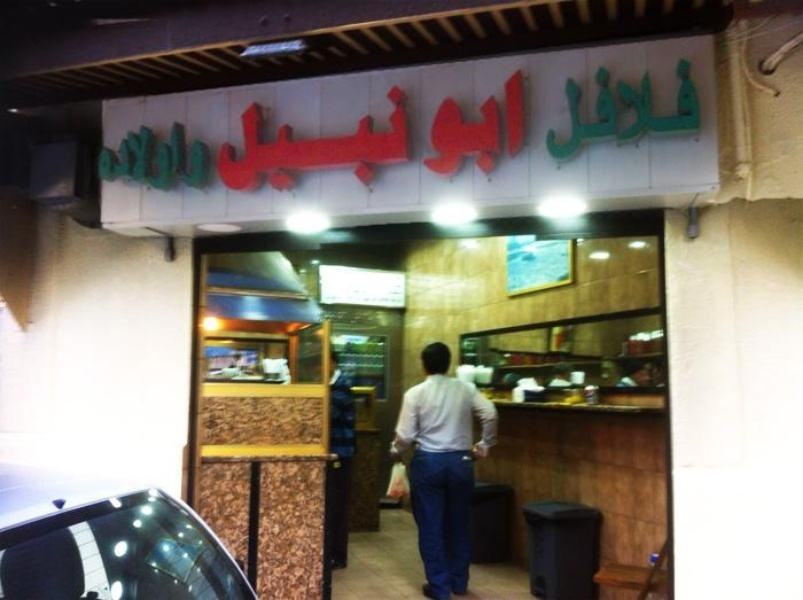text: (449, 60, 464, 194), (465, 60, 480, 194), (481, 60, 496, 194), (497, 60, 512, 194), (513, 60, 528, 194), (225, 82, 240, 197), (241, 82, 256, 197), (257, 82, 272, 197), (273, 82, 288, 197), (289, 82, 304, 197), (305, 82, 320, 197), (321, 82, 336, 197), (337, 82, 352, 197), (353, 82, 368, 197), (369, 82, 384, 197), (385, 82, 400, 197), (401, 82, 416, 197), (545, 53, 560, 165), (561, 53, 576, 165), (577, 53, 592, 165), (593, 53, 608, 165), (609, 53, 624, 165), (625, 53, 640, 165), (641, 53, 656, 165), (657, 53, 672, 165), (673, 53, 688, 165), (689, 53, 704, 165), (436, 60, 448, 194), (213, 82, 224, 197), (113, 119, 128, 198), (129, 119, 144, 198), (145, 119, 160, 198), (161, 119, 176, 198), (193, 130, 208, 197), (100, 119, 112, 198), (179, 130, 192, 197), (177, 119, 186, 198), (209, 130, 215, 197), (705, 53, 707, 165), (417, 82, 418, 197)
